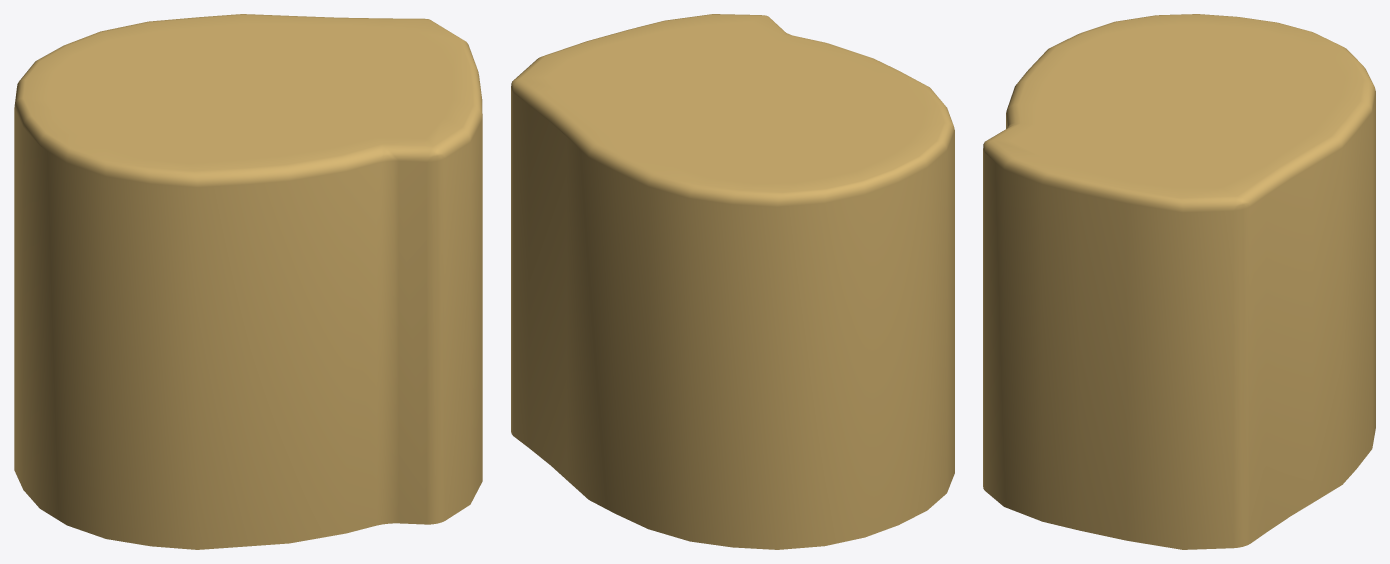
The model's file is Map_03_ButterSaltt.fbx.
3 renders of one model, left to right at view 1: azimuth 30°, elevation 25°; view 2: azimuth 150°, elevation 25°; view 3: azimuth 270°, elevation 25°, orthographic. The views are drawn at different scales.
Parts seen in each view (by area): view 1: Map_Land_03_BurtterSalt; view 2: Map_Land_03_BurtterSalt; view 3: Map_Land_03_BurtterSalt.
Part boxes in pixels (left/top/right/bottom): Map_Land_03_BurtterSalt: left=14, top=14, right=482, bottom=549; Map_Land_03_BurtterSalt: left=511, top=14, right=954, bottom=549; Map_Land_03_BurtterSalt: left=983, top=14, right=1375, bottom=549.
Size of the model in its own units: 34.03 by 28.75 by 29.46.
